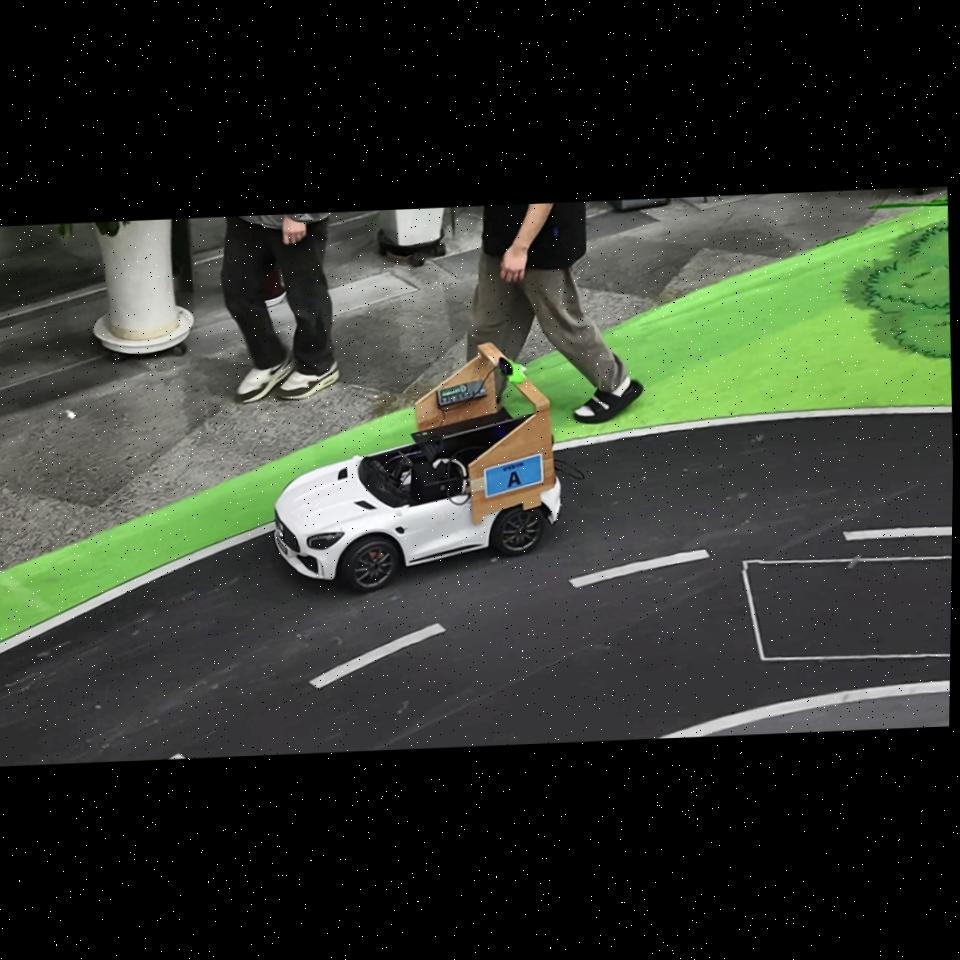broken_line: (310, 624, 445, 688), (570, 549, 710, 587), (843, 526, 952, 541), (169, 753, 186, 758)
